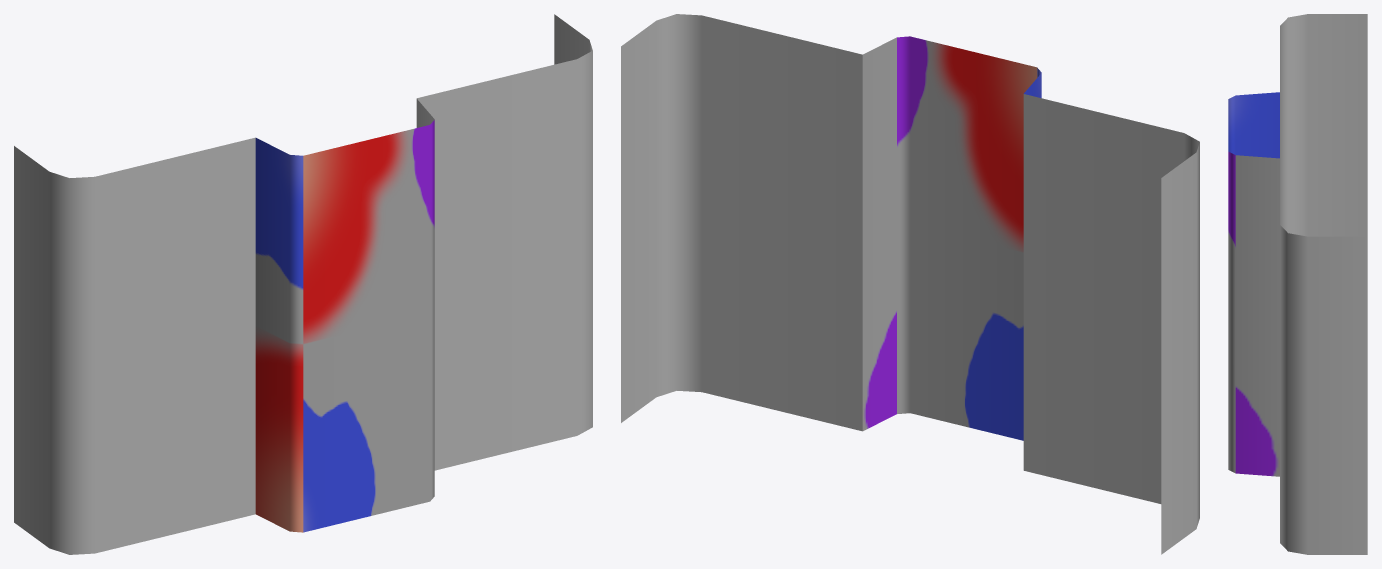
File: SM_SS02_Accent_Pillar.fbx
3 renders of one model, left to right at view 1: azimuth 30°, elevation 25°; view 2: azimuth 150°, elevation 25°; view 3: azimuth 270°, elevation 25°, orthographic. The views are drawn at different scales.
Visible parts, largest first — view 1: SM_SS02_Accent_Pillar; view 2: SM_SS02_Accent_Pillar; view 3: SM_SS02_Accent_Pillar.
Part boxes in pixels (left/top/right/bottom): SM_SS02_Accent_Pillar: left=14, top=14, right=592, bottom=554; SM_SS02_Accent_Pillar: left=621, top=14, right=1199, bottom=554; SM_SS02_Accent_Pillar: left=1228, top=14, right=1367, bottom=554.
Bounding box in the file's own units: 150 × 100 × 39.7.
